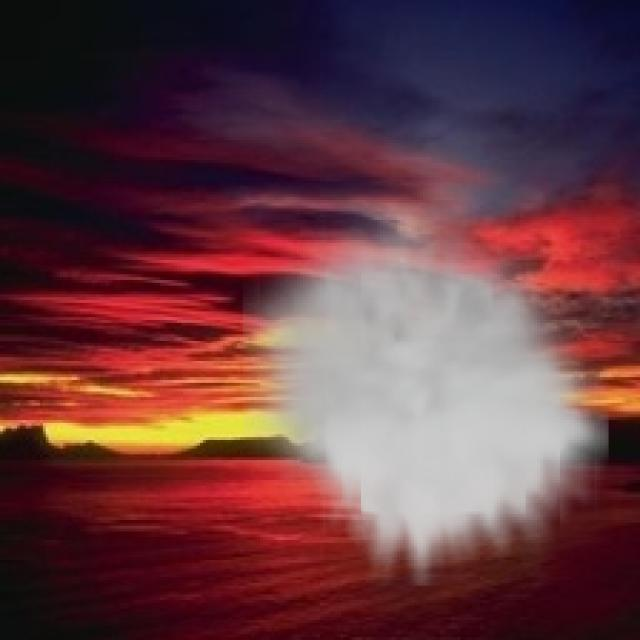Smoke: (242, 203, 608, 586)
